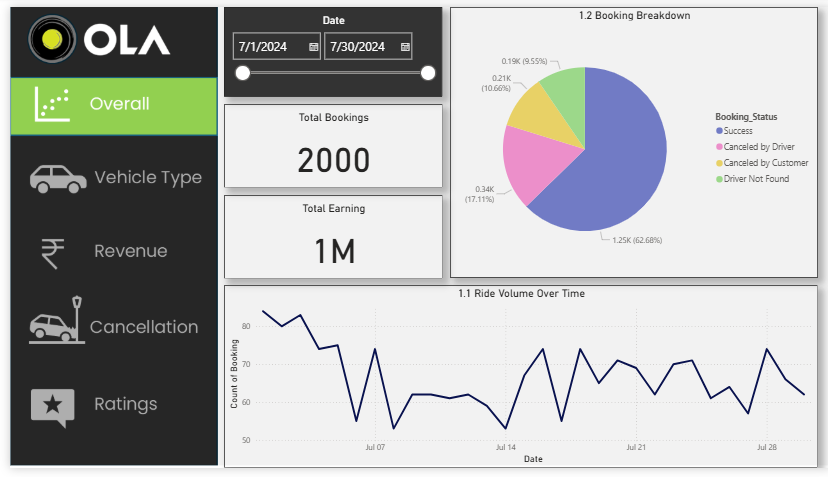

What the dashboard file says about the page in this screenshot:
{"tool":"powerbi","page":{"name":"Overall","canvas":[1280,720],"ordinal":0},"visuals":[{"type":"actionButton","box":[0,218.9,322.6,89.3],"z":0},{"type":"actionButton","box":[0,329.8,322.6,93.6],"z":1000},{"type":"actionButton","box":[0,445,322.6,97.9],"z":2000},{"type":"actionButton","box":[0,568.8,322.6,97.9],"z":3000},{"type":"lineChart","title":"1.1 Ride Volume Over Time","fields":{"Y":["CountNonNull(July.Booking_ID)"],"Category":["July.Date"]},"box":[334.1,434.9,927.4,285.1],"z":4000},{"type":"pieChart","title":"1.2 Booking Breakdown","fields":{"Category":["July.Booking_Status"],"Y":["CountNonNull(July.Booking_Status)"]},"box":[686.9,0,574.6,423.4],"z":5000},{"type":"slicer","title":"Date","fields":{"Values":["July.Date"]},"box":[334.1,0,341.3,139.7],"z":6000},{"type":"card","title":"Total Bookings","fields":{"Values":["Count(July.Booking_ID)"]},"box":[334.1,151.2,341.3,129.6],"z":7000},{"type":"card","title":"Total Earning","fields":{"Values":["Sum(July.Booking_Value)"]},"box":[334.1,293.8,341.3,129.6],"z":8000}]}

Visuals, with their boxes in screenshot pixels (x1, y1, x2, y2), scaled from the page's 1280x720 canvas onto the 828x477 screenshot:
actionButton: 0 145 209 204
actionButton: 0 218 209 281
actionButton: 0 295 209 360
actionButton: 0 377 209 442
"1.1 Ride Volume Over Time" lineChart: 216 288 816 476
"1.2 Booking Breakdown" pieChart: 444 0 816 281
"Date" slicer: 216 0 437 93
"Total Bookings" card: 216 100 437 186
"Total Earning" card: 216 195 437 281
